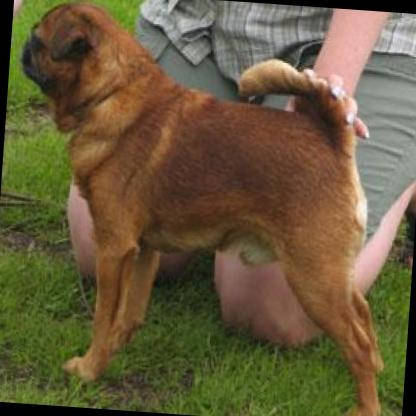Brabancon_griffon: (0, 0, 410, 416)
